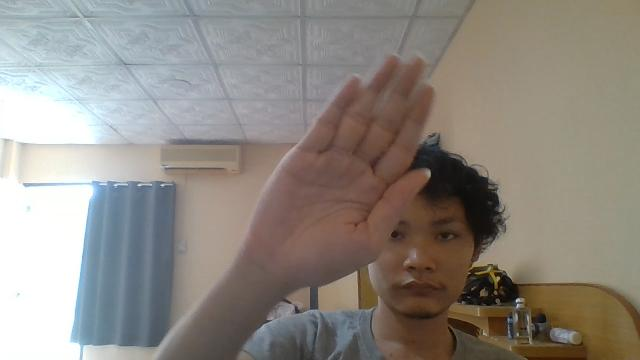Stop: (244, 53, 436, 291)
